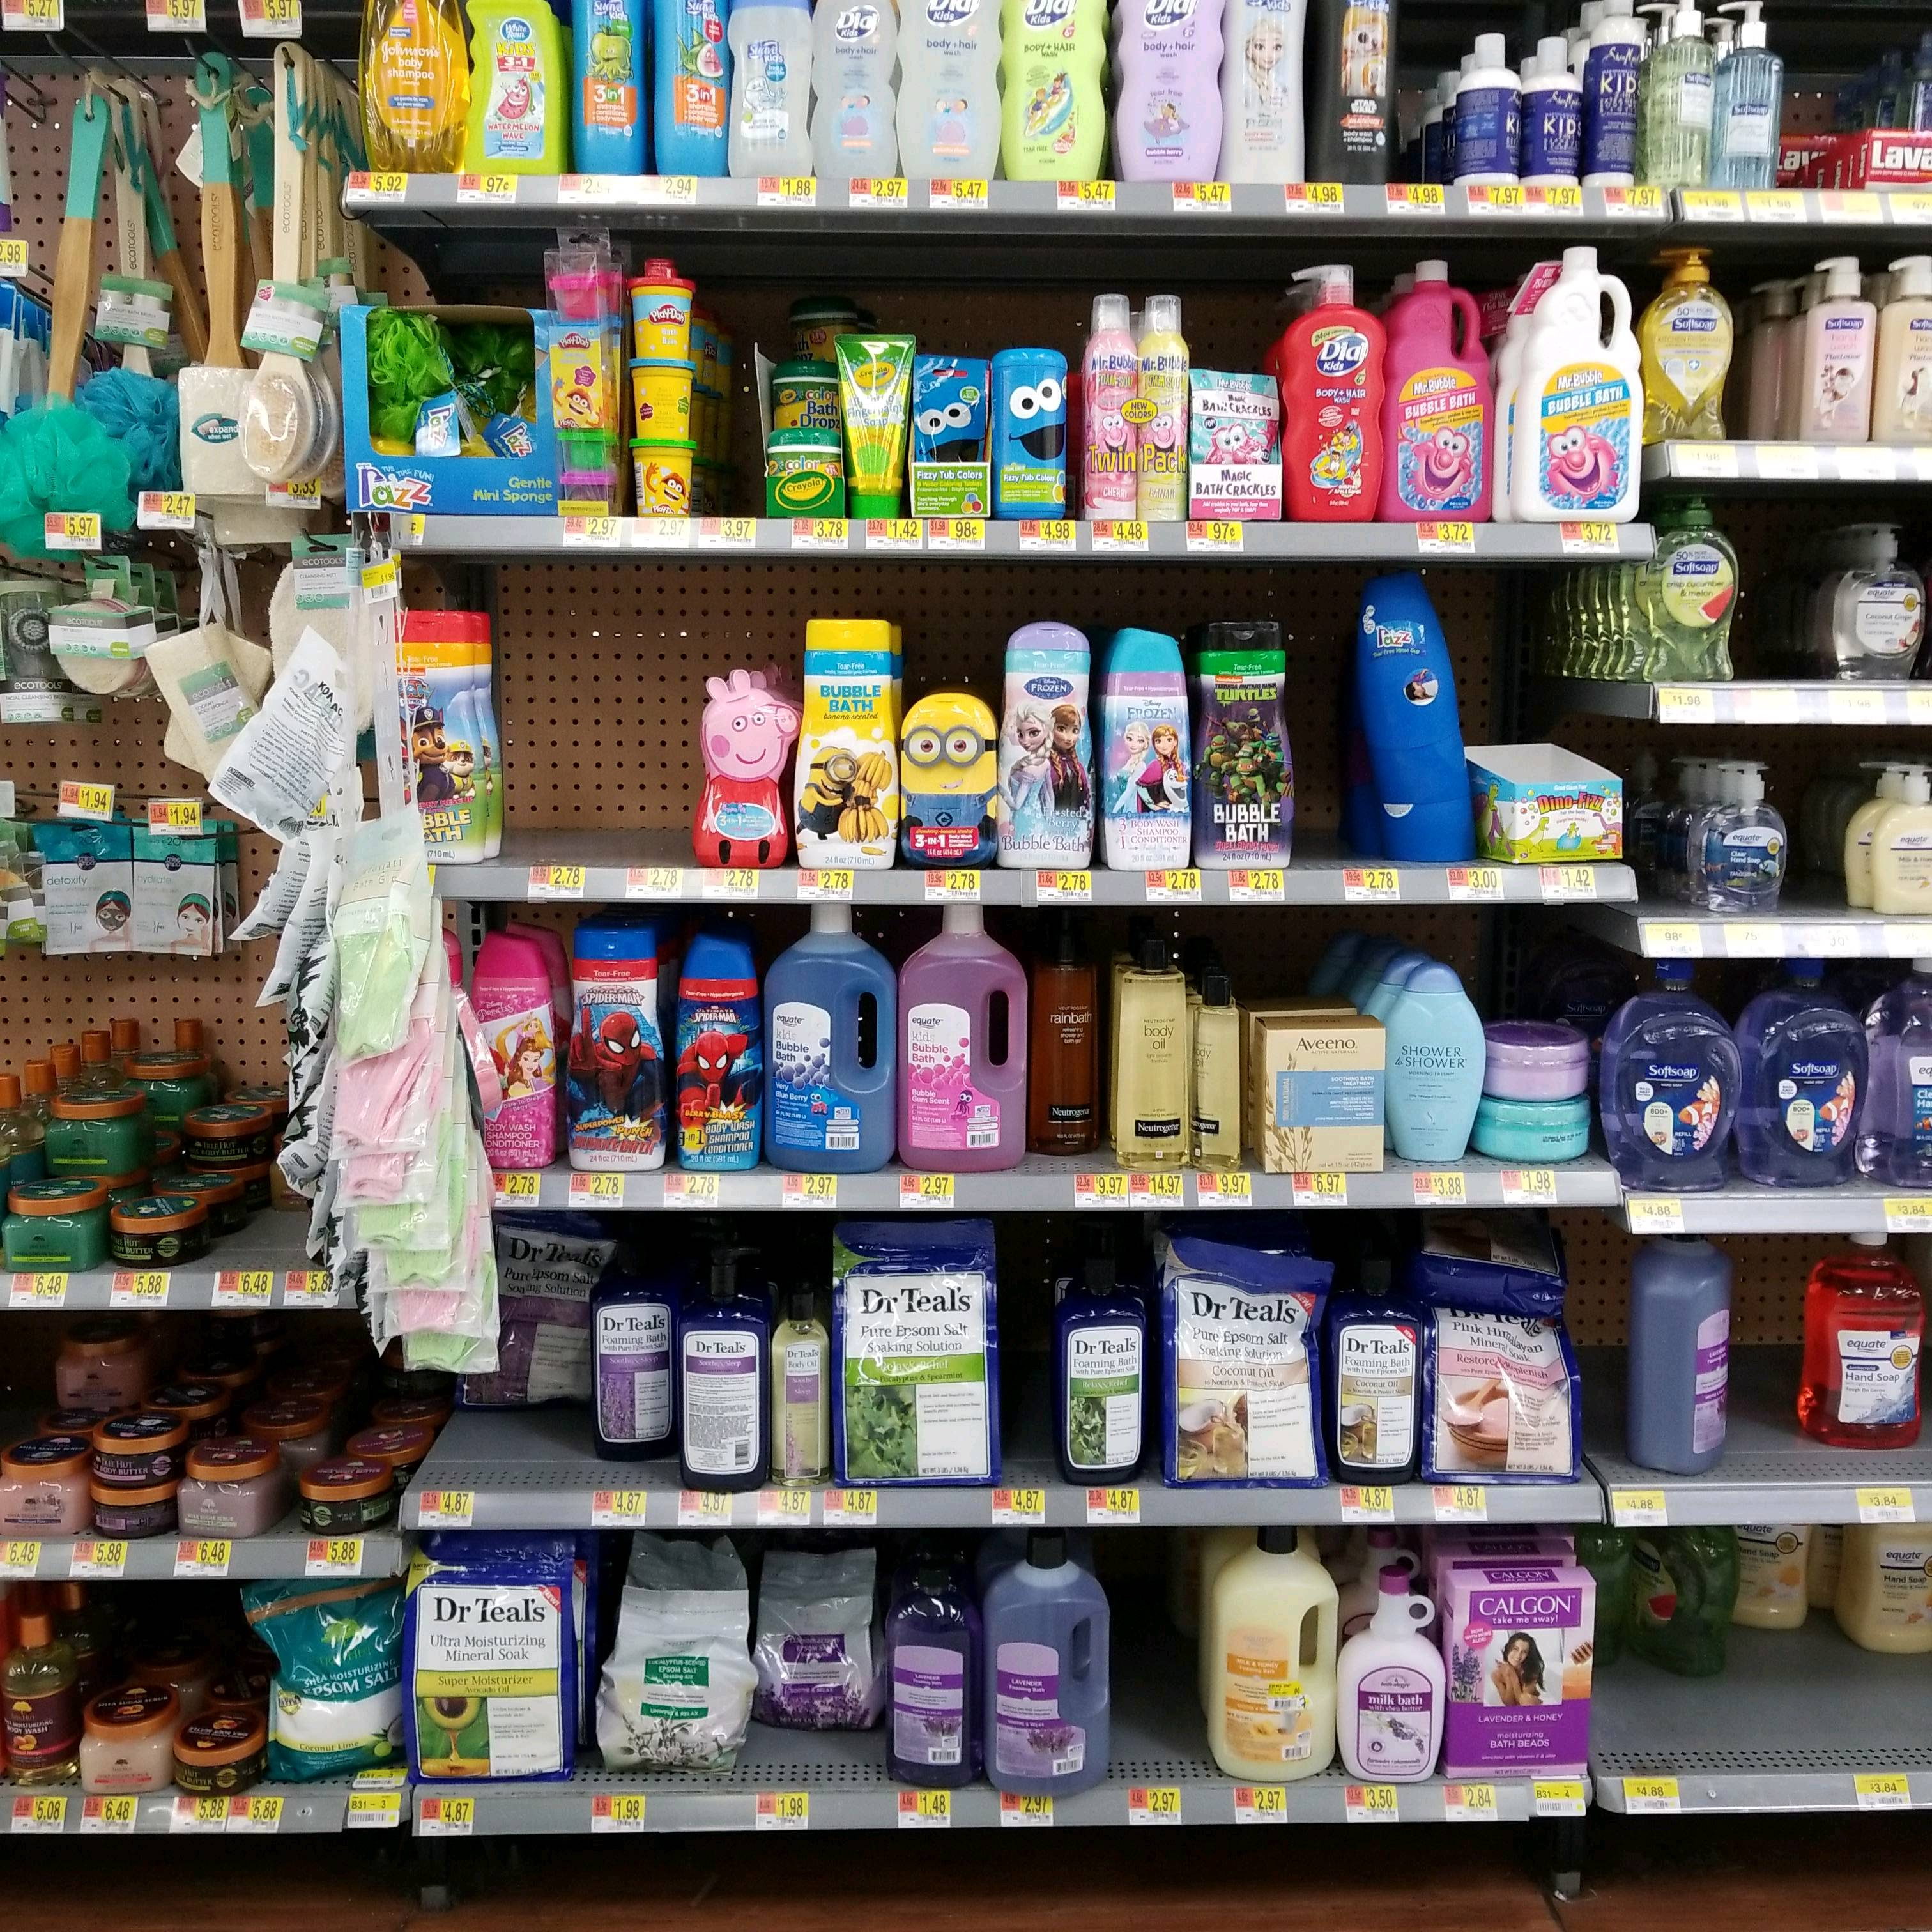Misplacement: (750, 1534, 886, 1789)
Out-of-stock: (504, 563, 695, 867)
